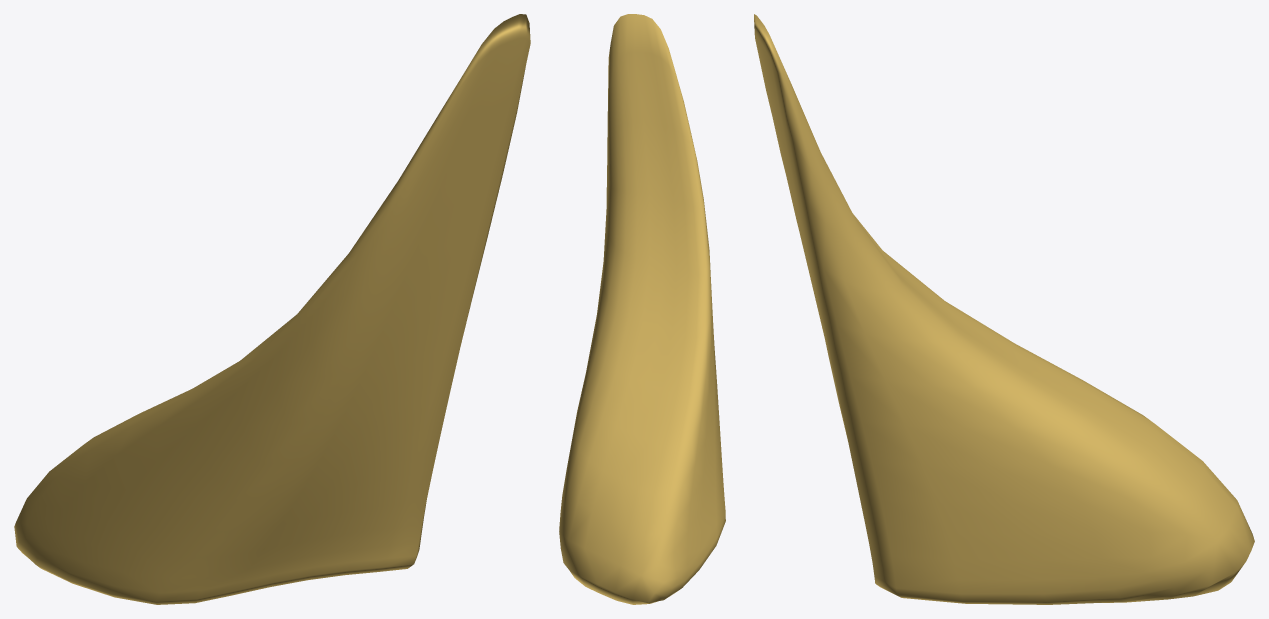
The picture shows the model from 3 angles, left to right: view 1: azimuth 30°, elevation 25°; view 2: azimuth 150°, elevation 25°; view 3: azimuth 270°, elevation 25°; orthographic projection. The views are drawn at different scales.
Visible parts, largest first — view 1: 右侧髌下脂肪垫; view 2: 右侧髌下脂肪垫; view 3: 右侧髌下脂肪垫.
Boxes of the visible parts, x1,y1,x2,y2 form: 右侧髌下脂肪垫: (14,14,530,604); 右侧髌下脂肪垫: (559,14,725,604); 右侧髌下脂肪垫: (754,14,1254,604).
Bounding box in the file's own units: 0.0172 × 0.0349 × 0.0245.
